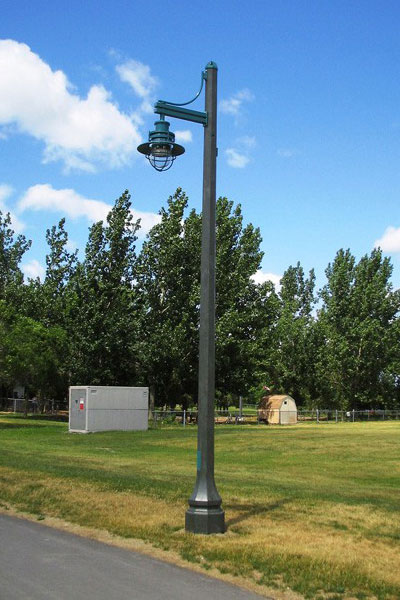light_pole: (182, 61, 226, 541)
